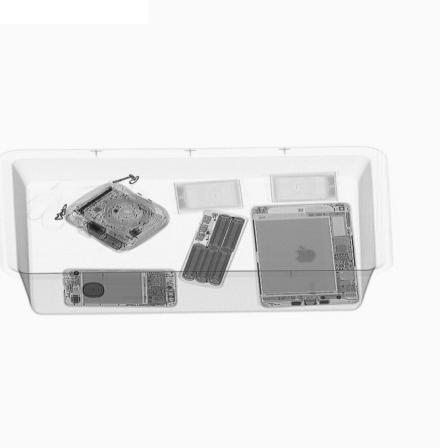Powerbank: (177, 209, 250, 290)
